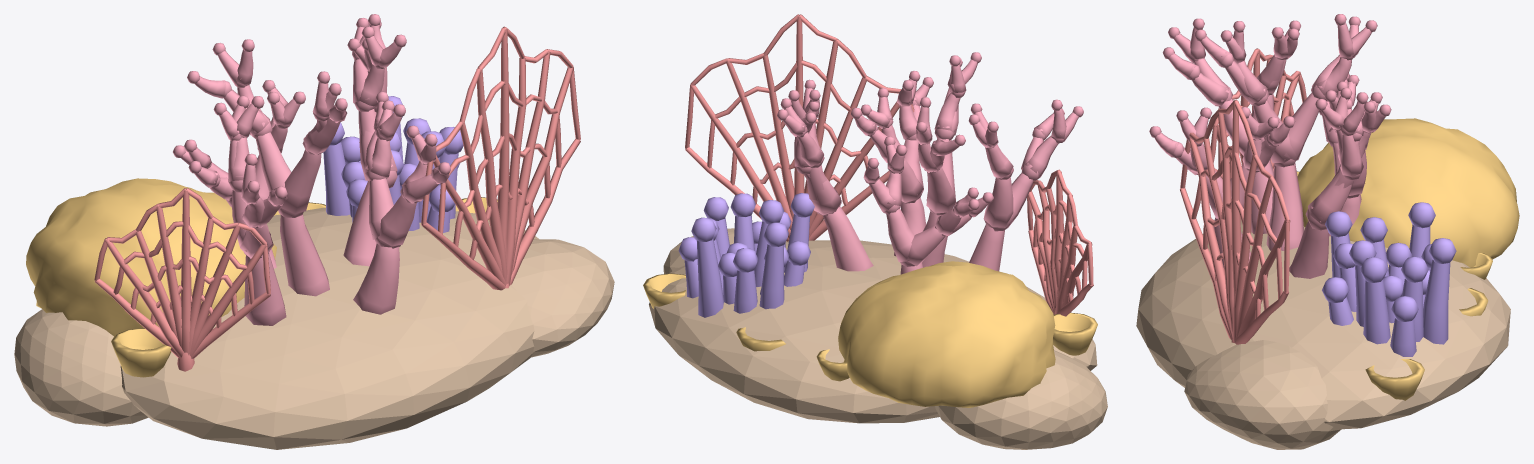
File: SharkBaitCoral.glb
3 renders of one model, left to right at view 1: azimuth 30°, elevation 25°; view 2: azimuth 150°, elevation 25°; view 3: azimuth 270°, elevation 25°, orthographic. The views are drawn at different scales.
Visible parts, largest first — view 1: Rock, CoralA, Fan, CoralB, CoralC; view 2: Rock, CoralB, CoralA, Fan, CoralC; view 3: Rock, CoralA, CoralB, Fan, CoralC.
Boxes of the visible parts, x1=… form: Rock: x1=14, y1=207, x2=614, y2=449; CoralA: x1=173, y1=14, x2=450, y2=325; Fan: x1=94, y1=26, x2=580, y2=371; CoralB: x1=26, y1=178, x2=497, y2=377; CoralC: x1=323, y1=96, x2=463, y2=232; Rock: x1=649, y1=228, x2=1107, y2=449; CoralB: x1=643, y1=261, x2=1097, y2=407; CoralA: x1=777, y1=52, x2=1083, y2=274; Fan: x1=685, y1=14, x2=1093, y2=316; CoralC: x1=678, y1=193, x2=814, y2=317; Rock: x1=1136, y1=219, x2=1510, y2=449; CoralA: x1=1149, y1=14, x2=1391, y2=278; CoralB: x1=1296, y1=118, x2=1519, y2=400; Fan: x1=1180, y1=48, x2=1306, y2=344; CoralC: x1=1322, y1=202, x2=1456, y2=356.
Size of the model in its own units: 9.33 by 6 by 6.28.
